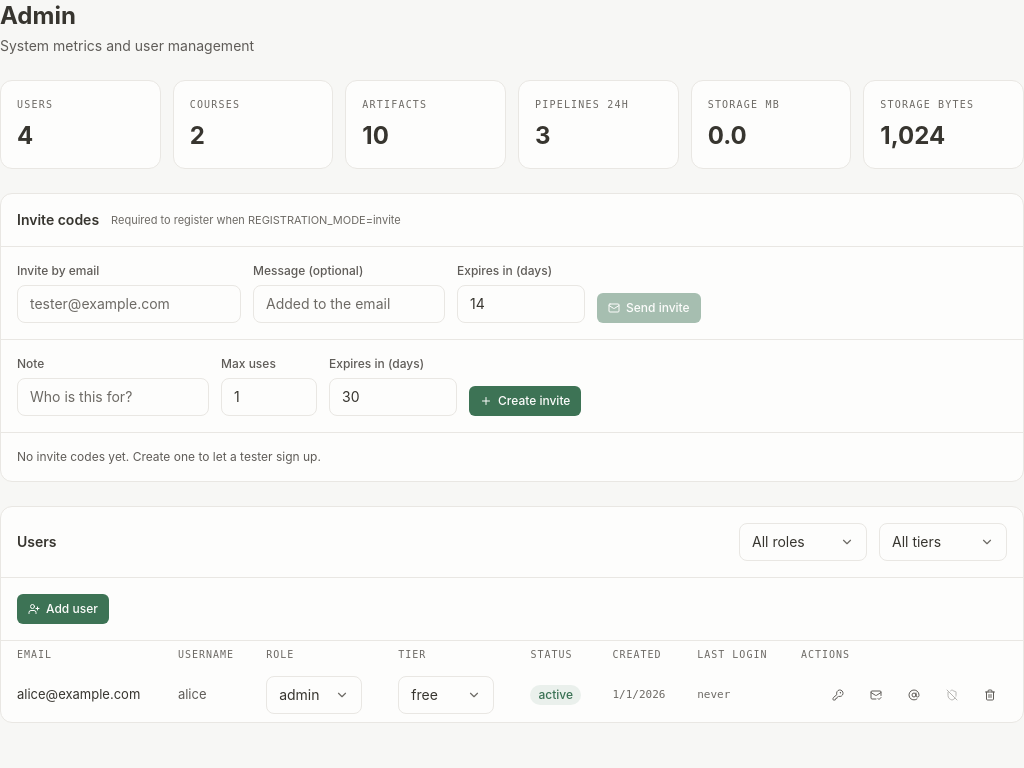
it: AdminPage destructive confirmations › warns a demotion that it may be refused as the last admin
What coordinates should you click on to do the following:
click the button "admin"
I would click on:
 (314, 695)
Its box is [266,676,362,714].
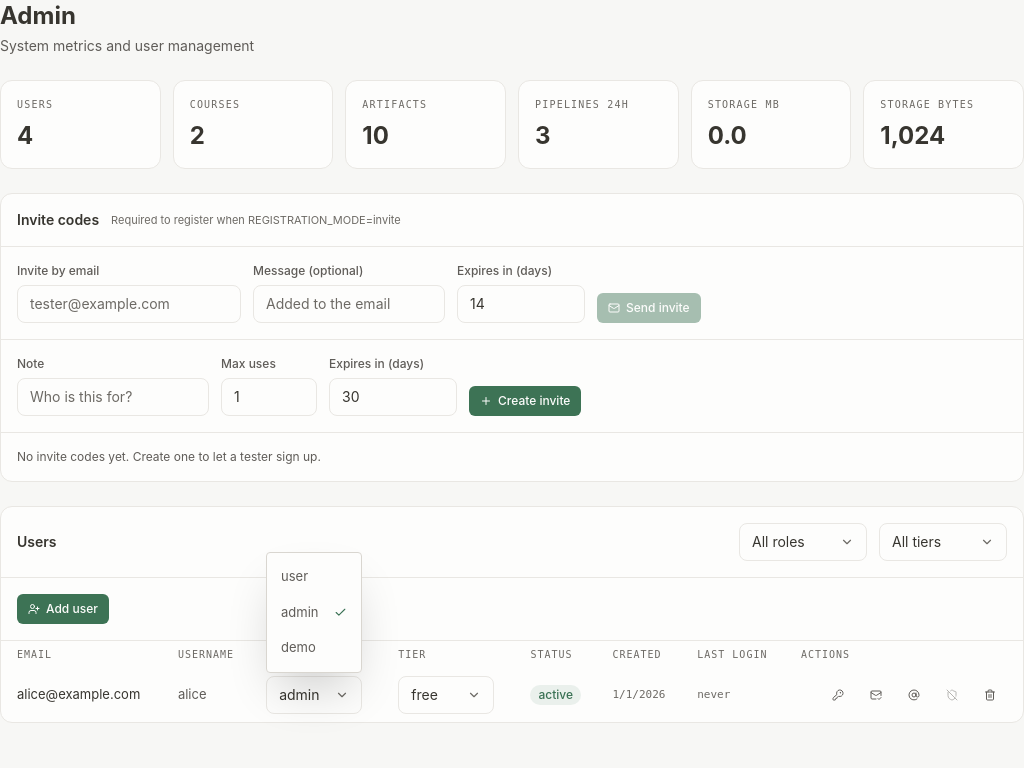
What coordinates should you click on to do the following:
click the menu item "user"
I would click on:
 (294, 576)
Its box is [281,568,308,584].
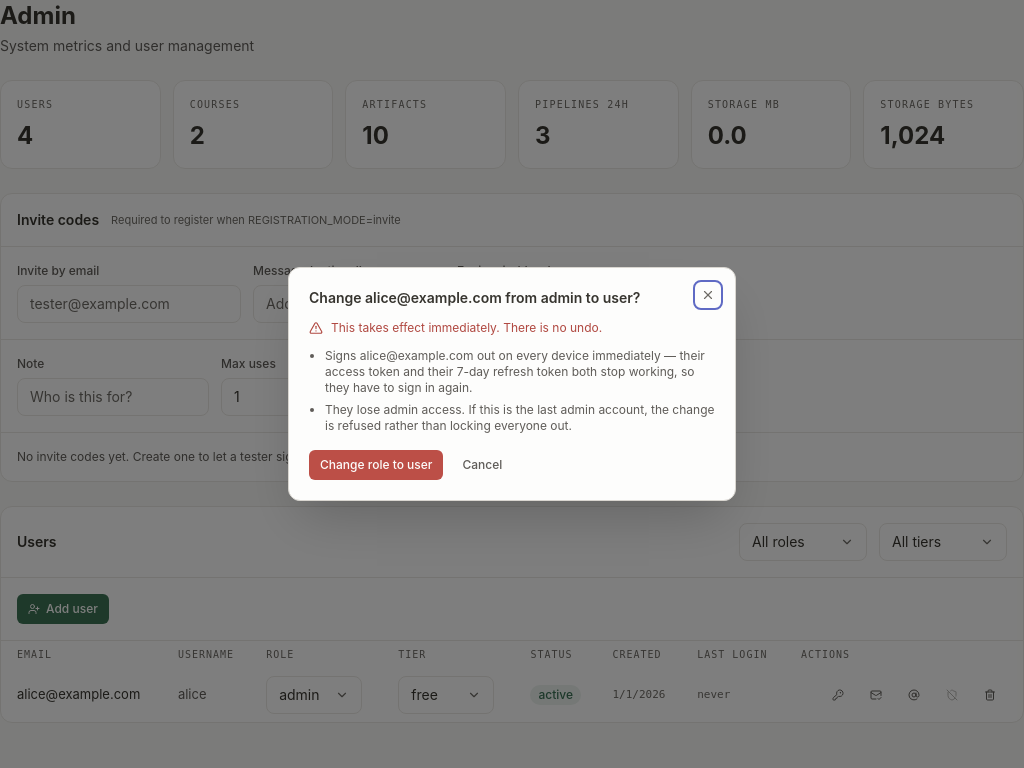
Check: the dialog shows "last admin account", box [325,402,714,433]
